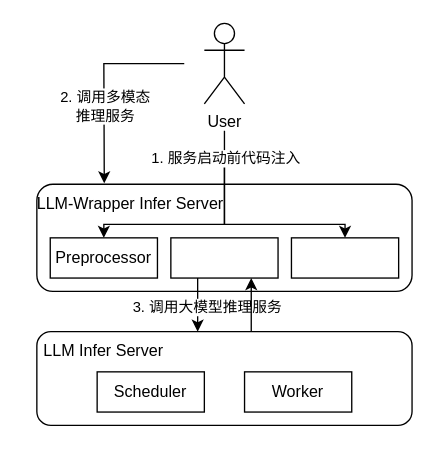
Some shapes in this 436 by 449 pixel diagram are drawn without their labels. The box of each missing label's shape, as (x1, y1, x2, y2) in pixels:
LLMClient: (170, 237, 278, 278)
Postprocessor: (290, 237, 399, 278)
